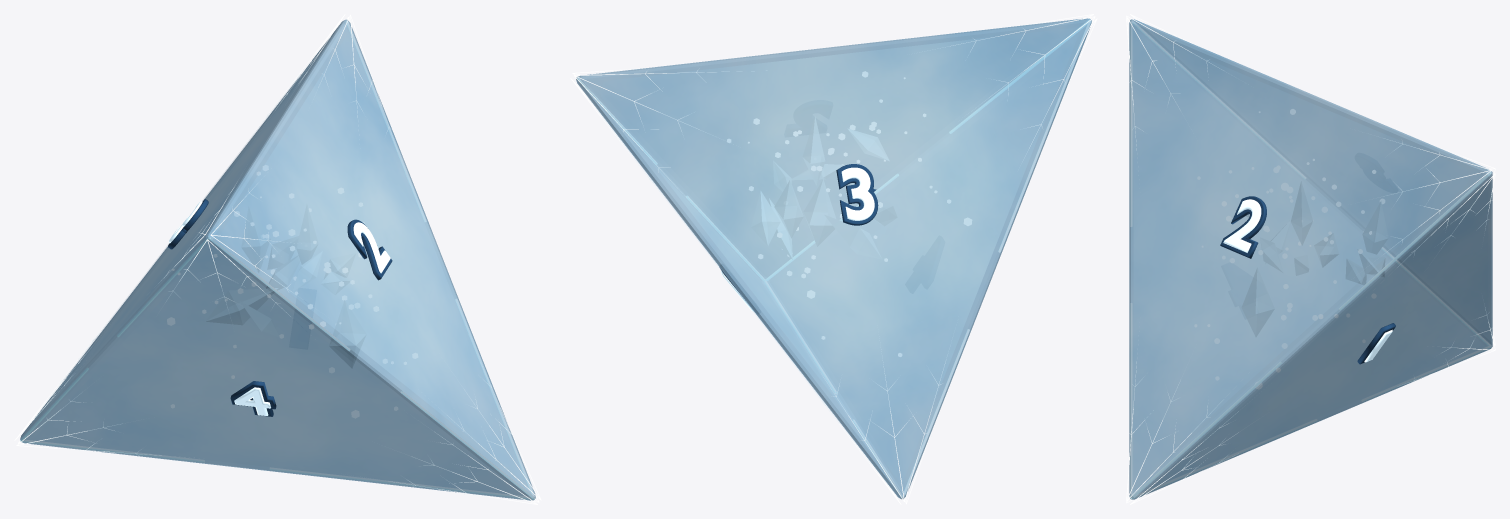
File: D4_四面骰_月白冰晶_baked.glb
3 renders of one model, left to right at view 1: azimuth 30°, elevation 25°; view 2: azimuth 150°, elevation 25°; view 3: azimuth 270°, elevation 25°, orthographic. The views are drawn at different scales.
Parts seen in each view (by area): view 1: D4_Body_4_Faces, D4_Continuous_Frost_Gradient_v3, D4_Floating_Ice_Shards, D4_Moonwhite_Broken_Ice_Seam, D4_Every_Face_Vertex_Frost_v6, D4_Floating_Frost_Motes, D4_Face_02_2_Dark_Ice_Back_v7, D4_Face_02_2; view 2: D4_Body_4_Faces, D4_Continuous_Frost_Gradient_v3, D4_Floating_Ice_Shards, D4_Moonwhite_Broken_Ice_Seam, D4_Every_Face_Vertex_Frost_v6, D4_Face_03_3_Dark_Ice_Back_v7, D4_Face_03_3, D4_Floating_Frost_Motes; view 3: D4_Body_4_Faces, D4_Continuous_Frost_Gradient_v3, D4_Floating_Ice_Shards, D4_Moonwhite_Broken_Ice_Seam, D4_Every_Face_Vertex_Frost_v6, D4_Face_02_2_Dark_Ice_Back_v7, D4_Floating_Frost_Motes, D4_Face_02_2.
Boxes of the visible parts, x1,y1,x2,y2 form: D4_Body_4_Faces: (20,19,535,500); D4_Continuous_Frost_Gradient_v3: (86,79,486,479); D4_Floating_Ice_Shards: (206,206,365,367); D4_Moonwhite_Broken_Ice_Seam: (20,21,535,499); D4_Every_Face_Vertex_Frost_v6: (14,14,541,504); D4_Floating_Frost_Motes: (167,165,417,417); D4_Face_02_2_Dark_Ice_Back_v7: (347,219,392,280); D4_Face_02_2: (353,222,390,273); D4_Body_4_Faces: (576,18,1091,499); D4_Continuous_Frost_Gradient_v3: (653,40,1027,395); D4_Floating_Ice_Shards: (751,119,896,258); D4_Moonwhite_Broken_Ice_Seam: (577,19,1091,498); D4_Every_Face_Vertex_Frost_v6: (570,14,1097,504); D4_Face_03_3_Dark_Ice_Back_v7: (836,164,878,225); D4_Face_03_3: (841,167,874,220); D4_Floating_Frost_Motes: (727,71,971,356); D4_Body_4_Faces: (1129,19,1492,499); D4_Continuous_Frost_Gradient_v3: (1134,67,1487,447); D4_Floating_Ice_Shards: (1242,182,1387,336); D4_Moonwhite_Broken_Ice_Seam: (1130,20,1491,499); D4_Every_Face_Vertex_Frost_v6: (1126,14,1495,504); D4_Face_02_2_Dark_Ice_Back_v7: (1220,196,1266,258); D4_Floating_Frost_Motes: (1195,109,1384,389); D4_Face_02_2: (1223,199,1261,252).
Size of the model in its own units: 2.3 by 2.3 by 2.3.
11 materials, 2 textured.
